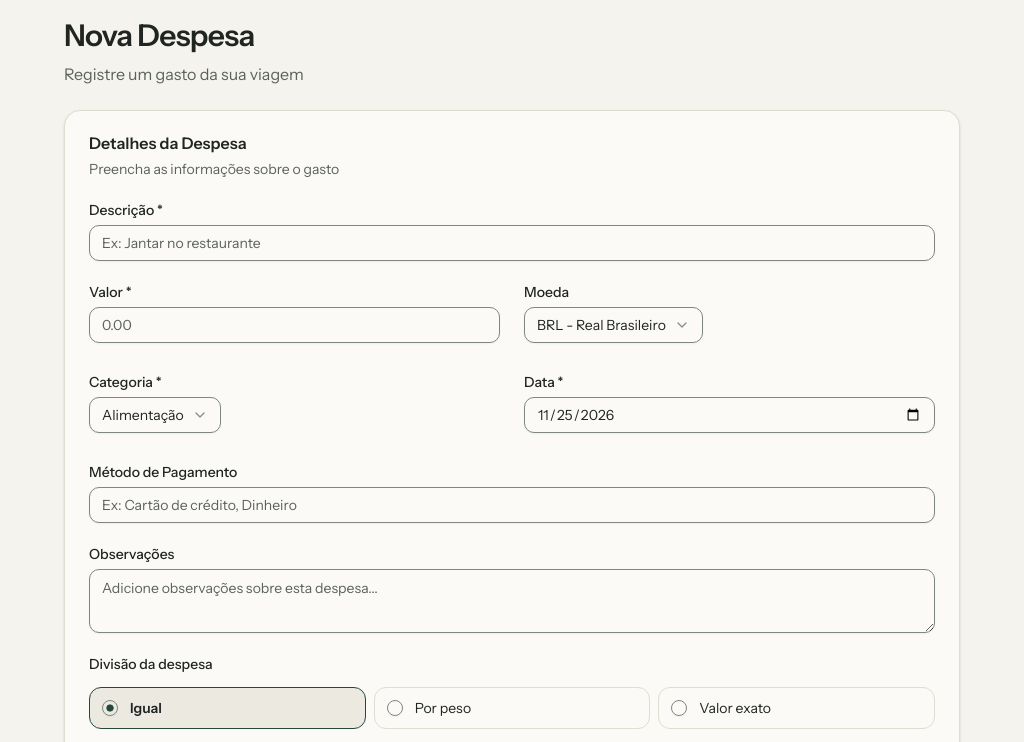
Test: Nova despesa — divisão por peso › valida peso zero e calcula as partes proporcionais
Later steps or results of the test are not shown.
Check: the heading "Nova Despesa" is shown, box x1=64 y1=17 x2=255 y2=54
Type "Jantar" into the field labelled "Descrição *" at (512, 243), box x1=89 y1=225 x2=935 y2=261
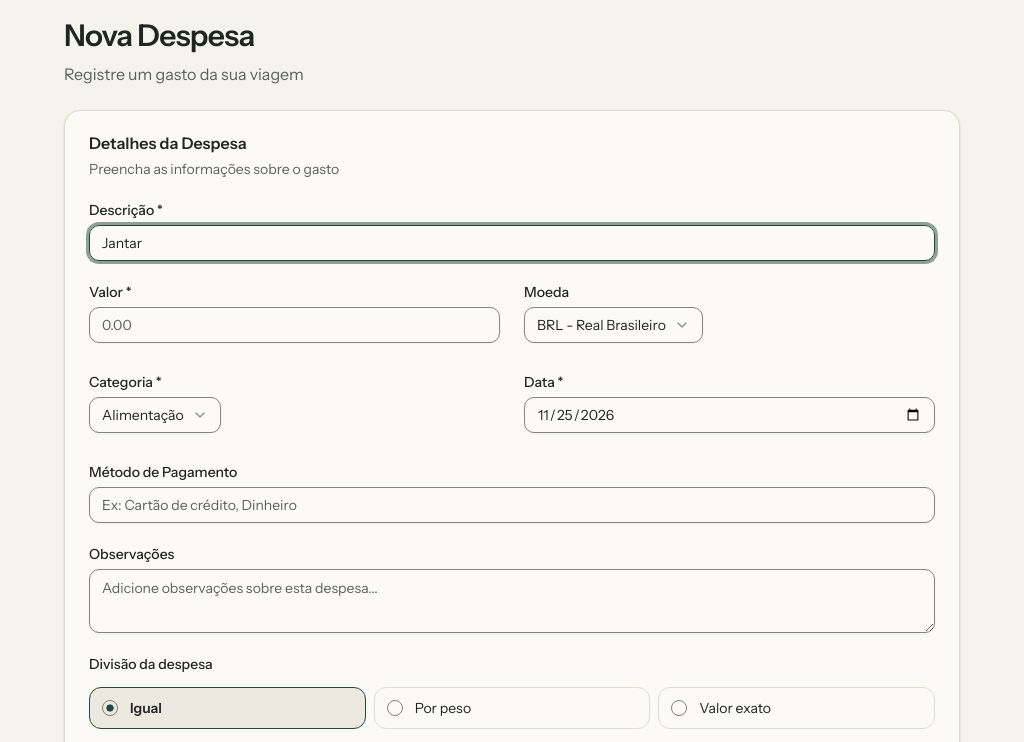
Type "100" into the number field labelled "Valor *" at (294, 325), box x1=89 y1=307 x2=500 y2=343
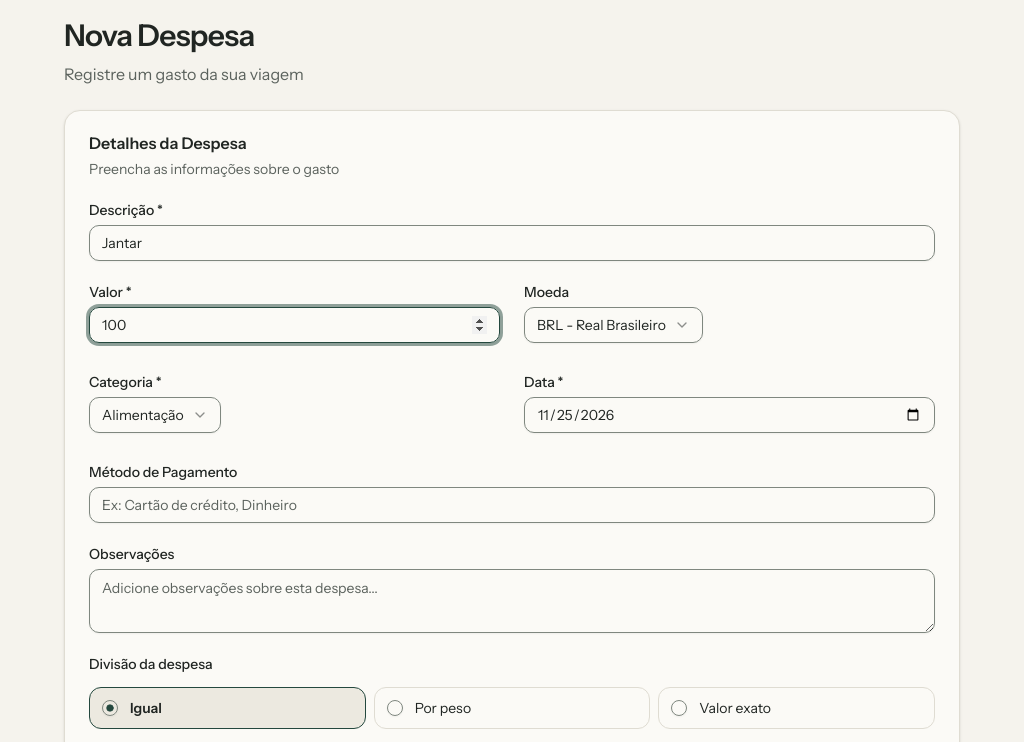
Click the radio button named "Por peso" next to "Por peso" at (395, 708), box x1=387 y1=700 x2=403 y2=716
(page scrolled)
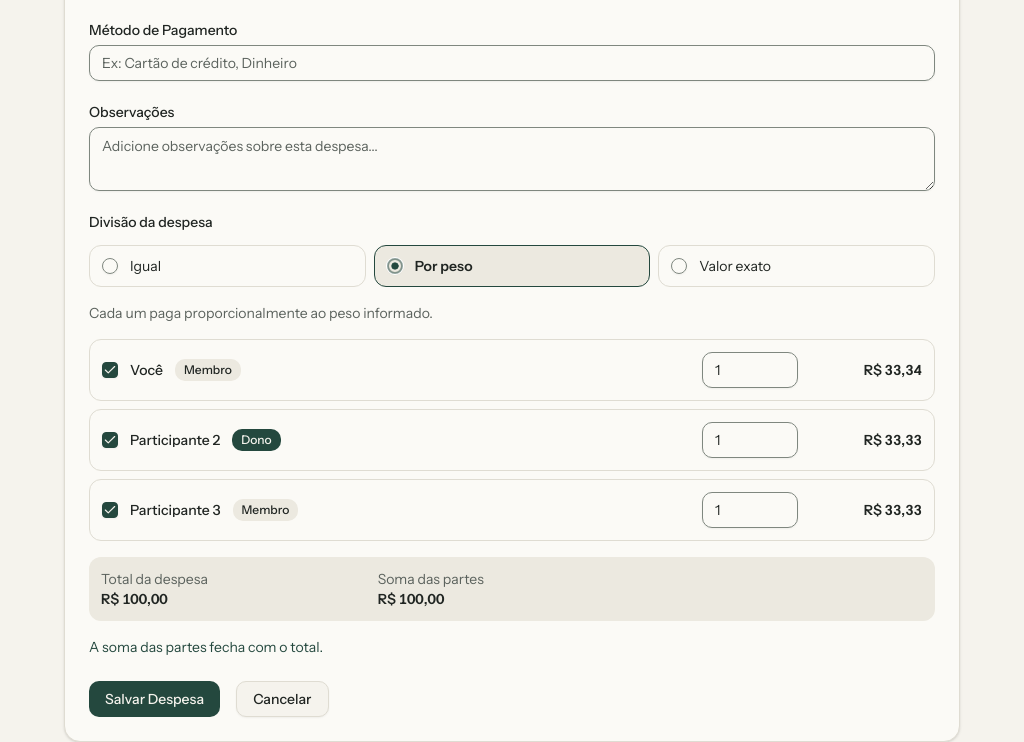
Replace the text in the number field named "Peso de Você" with "0" at (750, 370), box x1=702 y1=352 x2=798 y2=388
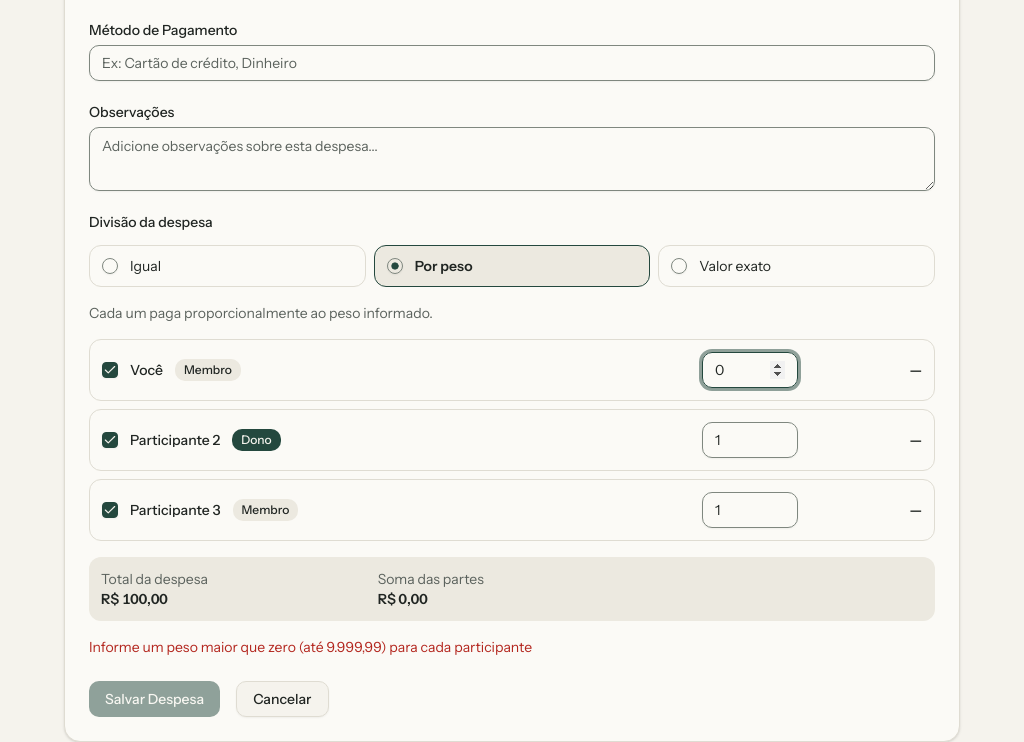
Check: the message with id "rateio-status" shows "peso maior que zero", box x1=89 y1=638 x2=532 y2=656
Check: the button "Salvar Despesa" is disabled, box x1=89 y1=681 x2=220 y2=717
Replace the text in the number field named "Peso de Você" with "2" at (750, 370), box x1=702 y1=352 x2=798 y2=388
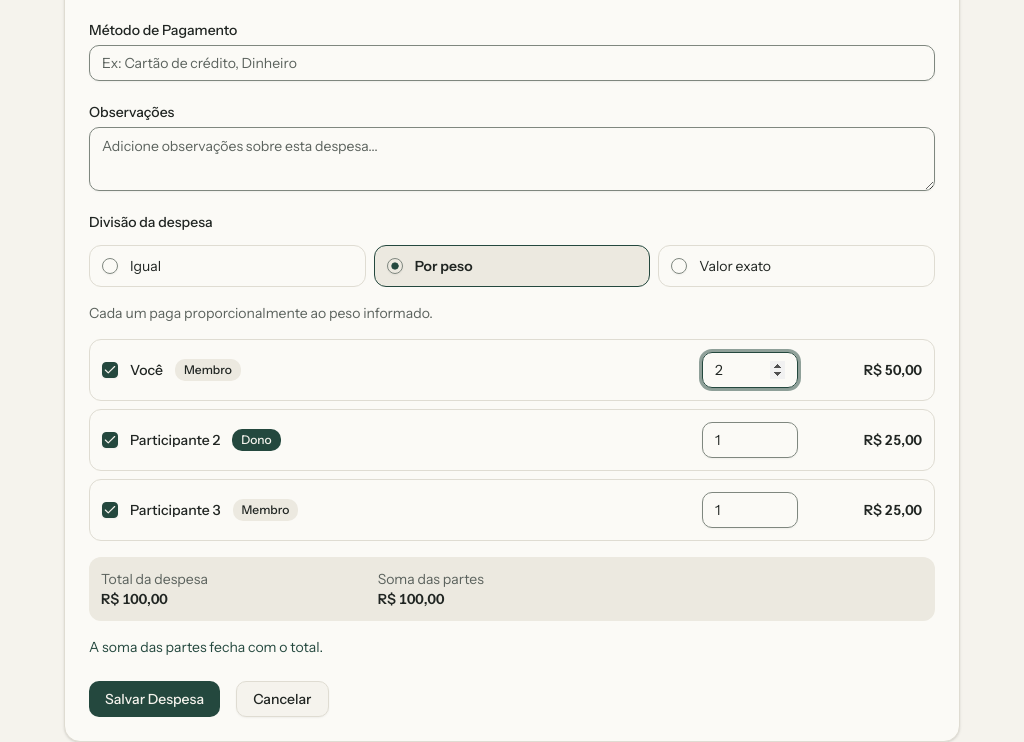
Check: the button "Salvar Despesa" is enabled, box x1=89 y1=681 x2=220 y2=717
